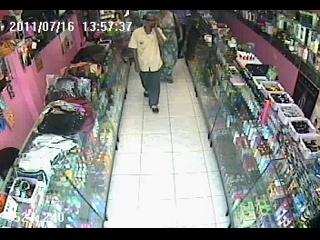Normal: (127, 13, 167, 114), (158, 11, 180, 84)
